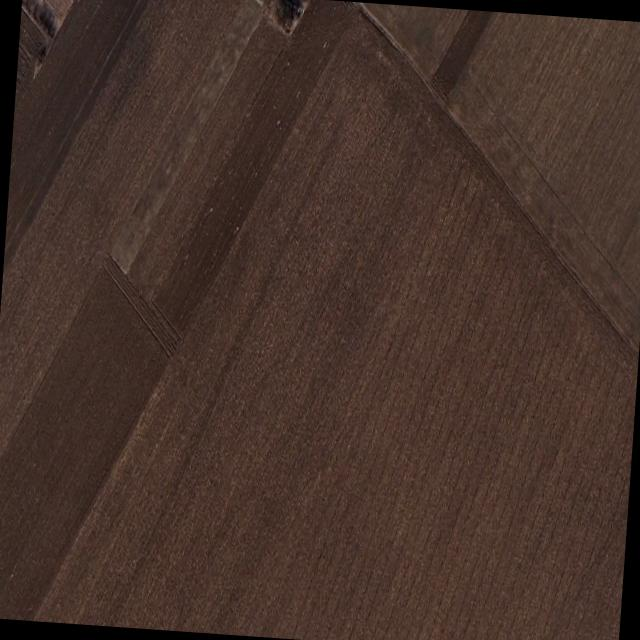tree: (265, 0, 307, 38)
